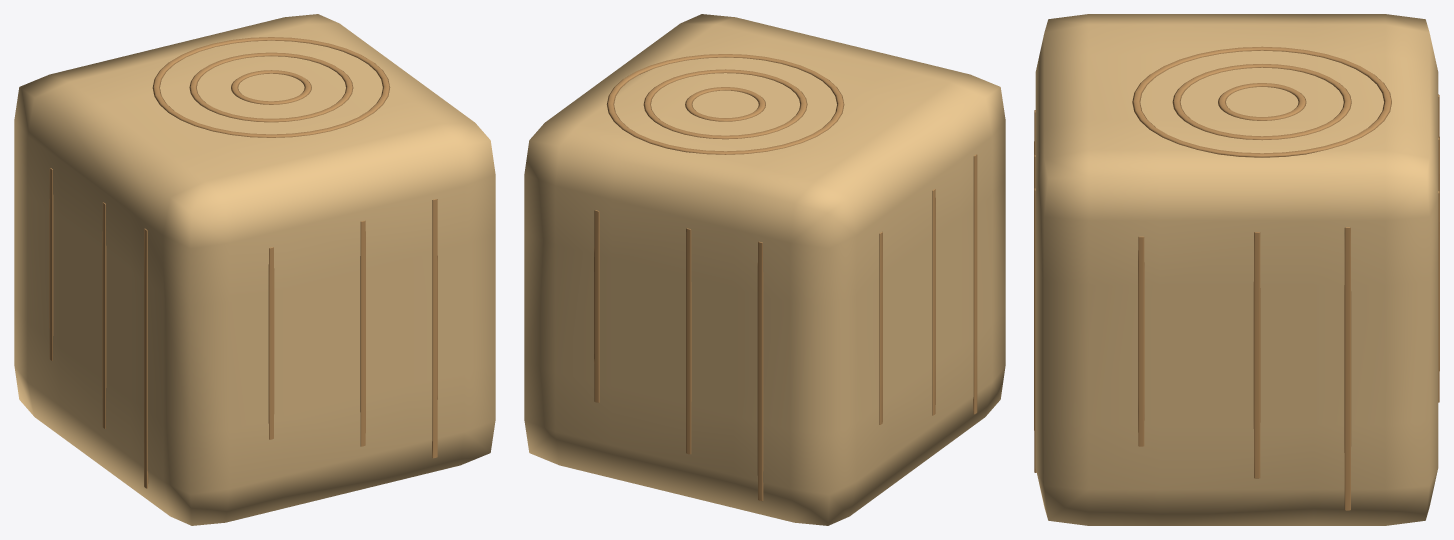
The model's file is TanksBlock.obj.
3 views of the same model, side by side, from view 1: azimuth 30°, elevation 25°; view 2: azimuth 150°, elevation 25°; view 3: azimuth 270°, elevation 25° (orthographic). The views are drawn at different scales.
Visible parts, largest first — view 1: Wood, Grain; view 2: Wood, Grain; view 3: Wood, Grain.
Boxes of the visible parts, x1=… form: Wood: x1=14, y1=14, x2=495, y2=525; Grain: x1=49, y1=37, x2=437, y2=488; Wood: x1=524, y1=14, x2=1005, y2=525; Grain: x1=594, y1=54, x2=977, y2=500; Wood: x1=1035, y1=14, x2=1438, y2=525; Grain: x1=1034, y1=46, x2=1439, y2=510.
Size of the model in its own units: 8.06 by 8.03 by 8.06.
